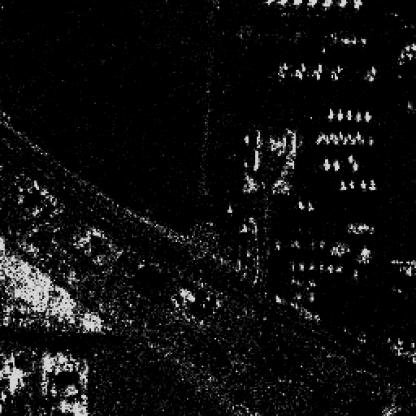airplane: (369, 169, 375, 190), (322, 156, 330, 169), (338, 180, 348, 190), (364, 110, 372, 122), (325, 109, 333, 119), (354, 112, 362, 122), (336, 109, 343, 120), (346, 110, 353, 121), (351, 162, 359, 171), (354, 130, 361, 140), (359, 178, 366, 188), (346, 153, 354, 161), (336, 130, 343, 138), (348, 180, 354, 188), (341, 136, 346, 145), (315, 135, 320, 143), (320, 132, 325, 140), (346, 132, 351, 140), (367, 138, 372, 145), (325, 135, 330, 141), (328, 132, 333, 138), (333, 137, 338, 143), (350, 138, 354, 145)
